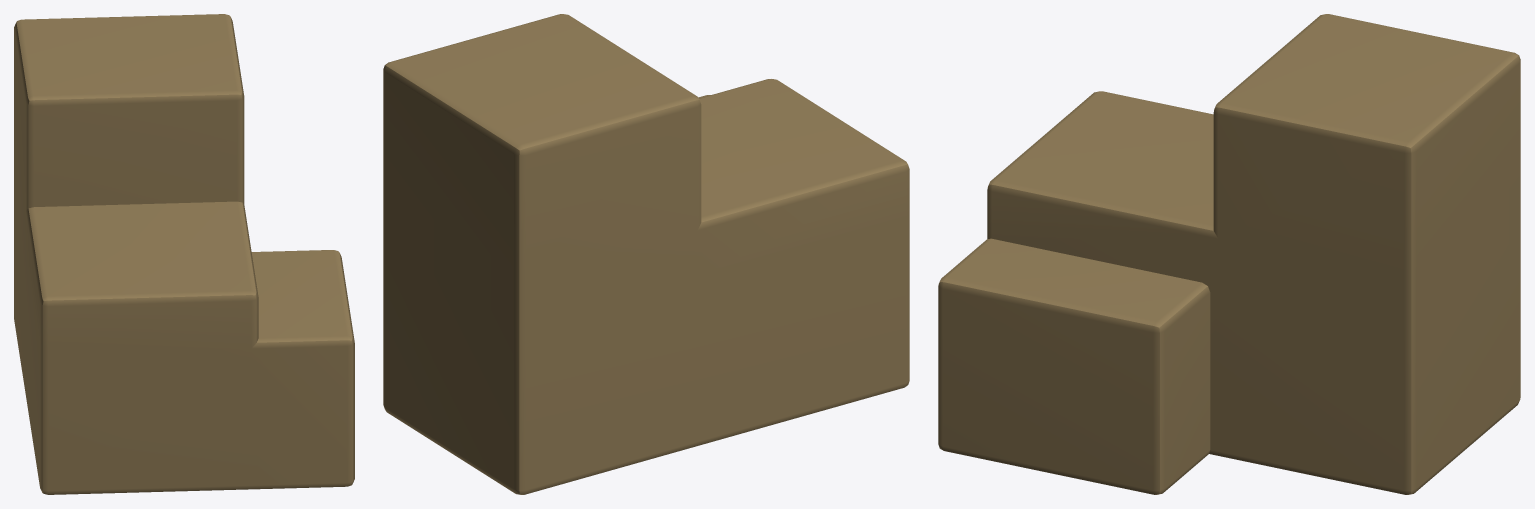
File: block_smash.fbx
3 renders of one model, left to right at view 1: azimuth 30°, elevation 25°; view 2: azimuth 150°, elevation 25°; view 3: azimuth 270°, elevation 25°, orthographic. The views are drawn at different scales.
Visible parts, largest first — view 1: block_smash; view 2: block_smash; view 3: block_smash.
Boxes of the visible parts, x1,y1,x2,y2 form: block_smash: (14, 14, 354, 494); block_smash: (383, 14, 909, 494); block_smash: (938, 14, 1520, 494).
Size of the model in its own units: 85.36 by 77.21 by 115.
